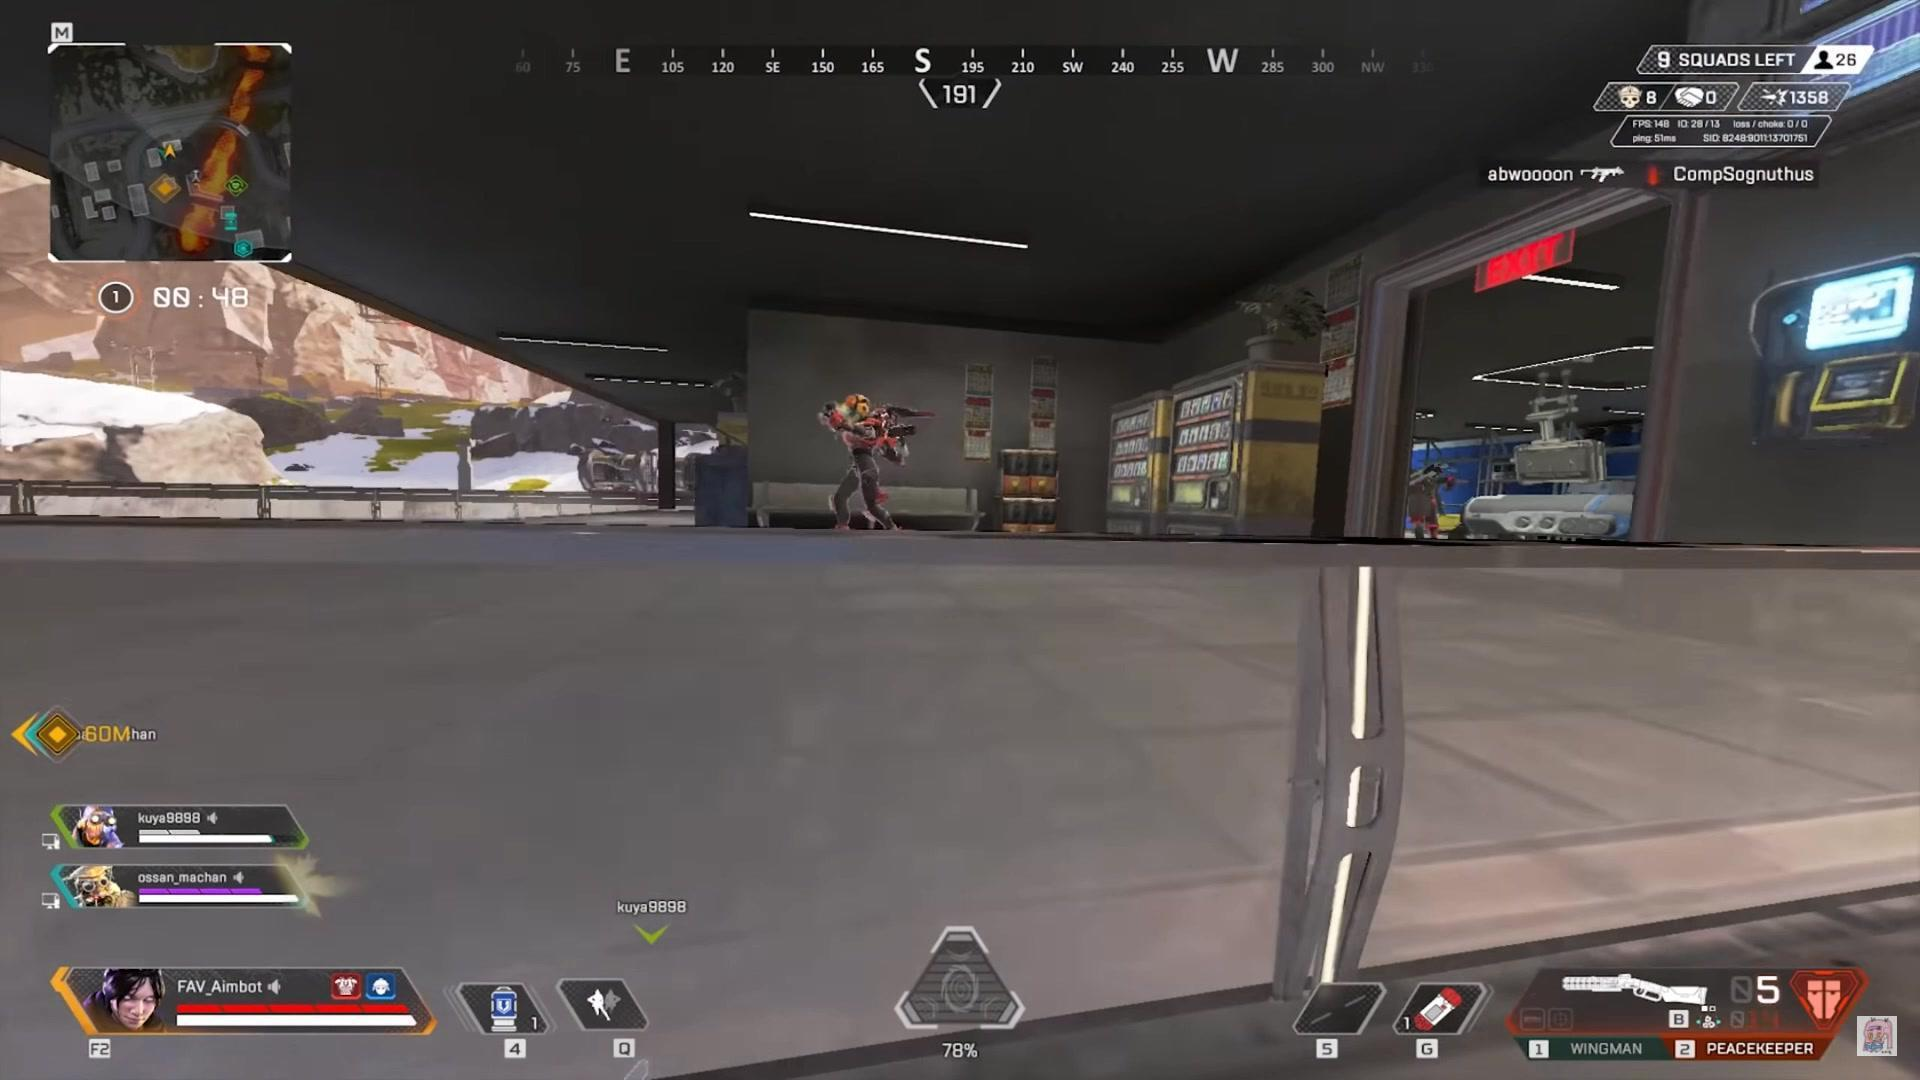avatar: (816, 391, 901, 531)
